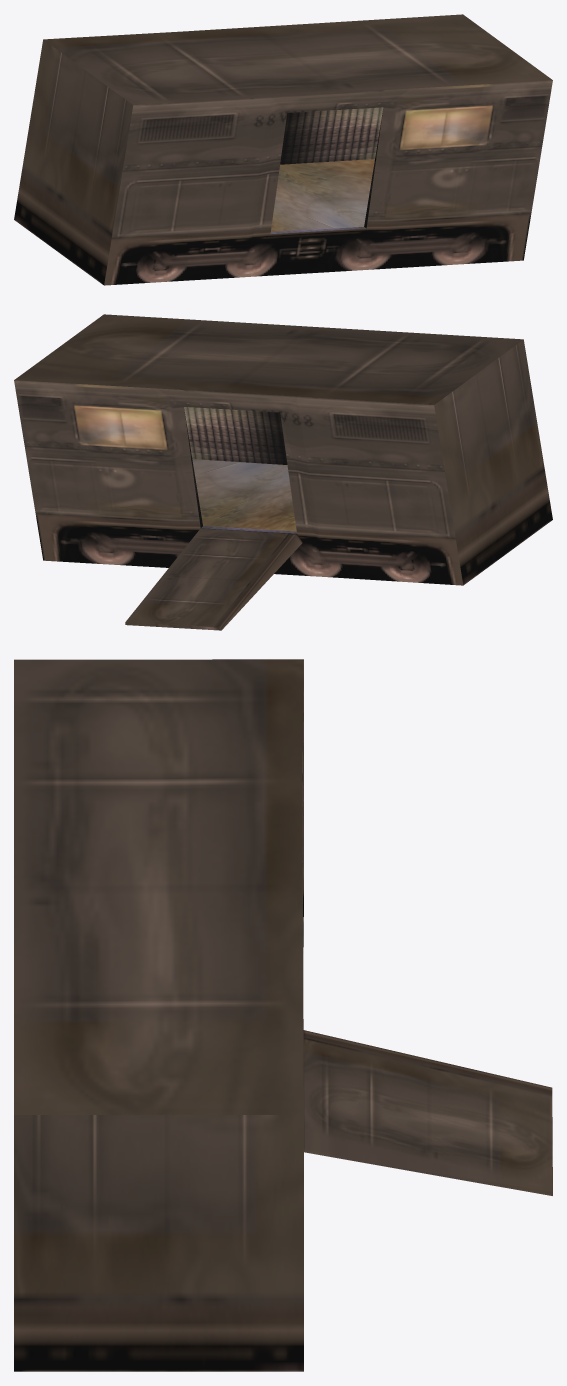
File: TRAIN03.glb
3 renders of one model, top to bottom at view 1: azimuth 30°, elevation 25°; view 2: azimuth 150°, elevation 25°; view 3: azimuth 270°, elevation 25°, orthographic. The views are drawn at different scales.
Parts seen in each view (by area): view 1: TRAIN03; view 2: TRAIN03; view 3: TRAIN03.
Part boxes in pixels (x1=…): TRAIN03: x1=14, y1=14, x2=552, y2=285; TRAIN03: x1=14, y1=314, x2=552, y2=630; TRAIN03: x1=14, y1=659, x2=552, y2=1371.
Size of the model in its own units: 1443 by 770 by 930.
4 materials, 4 textured.
